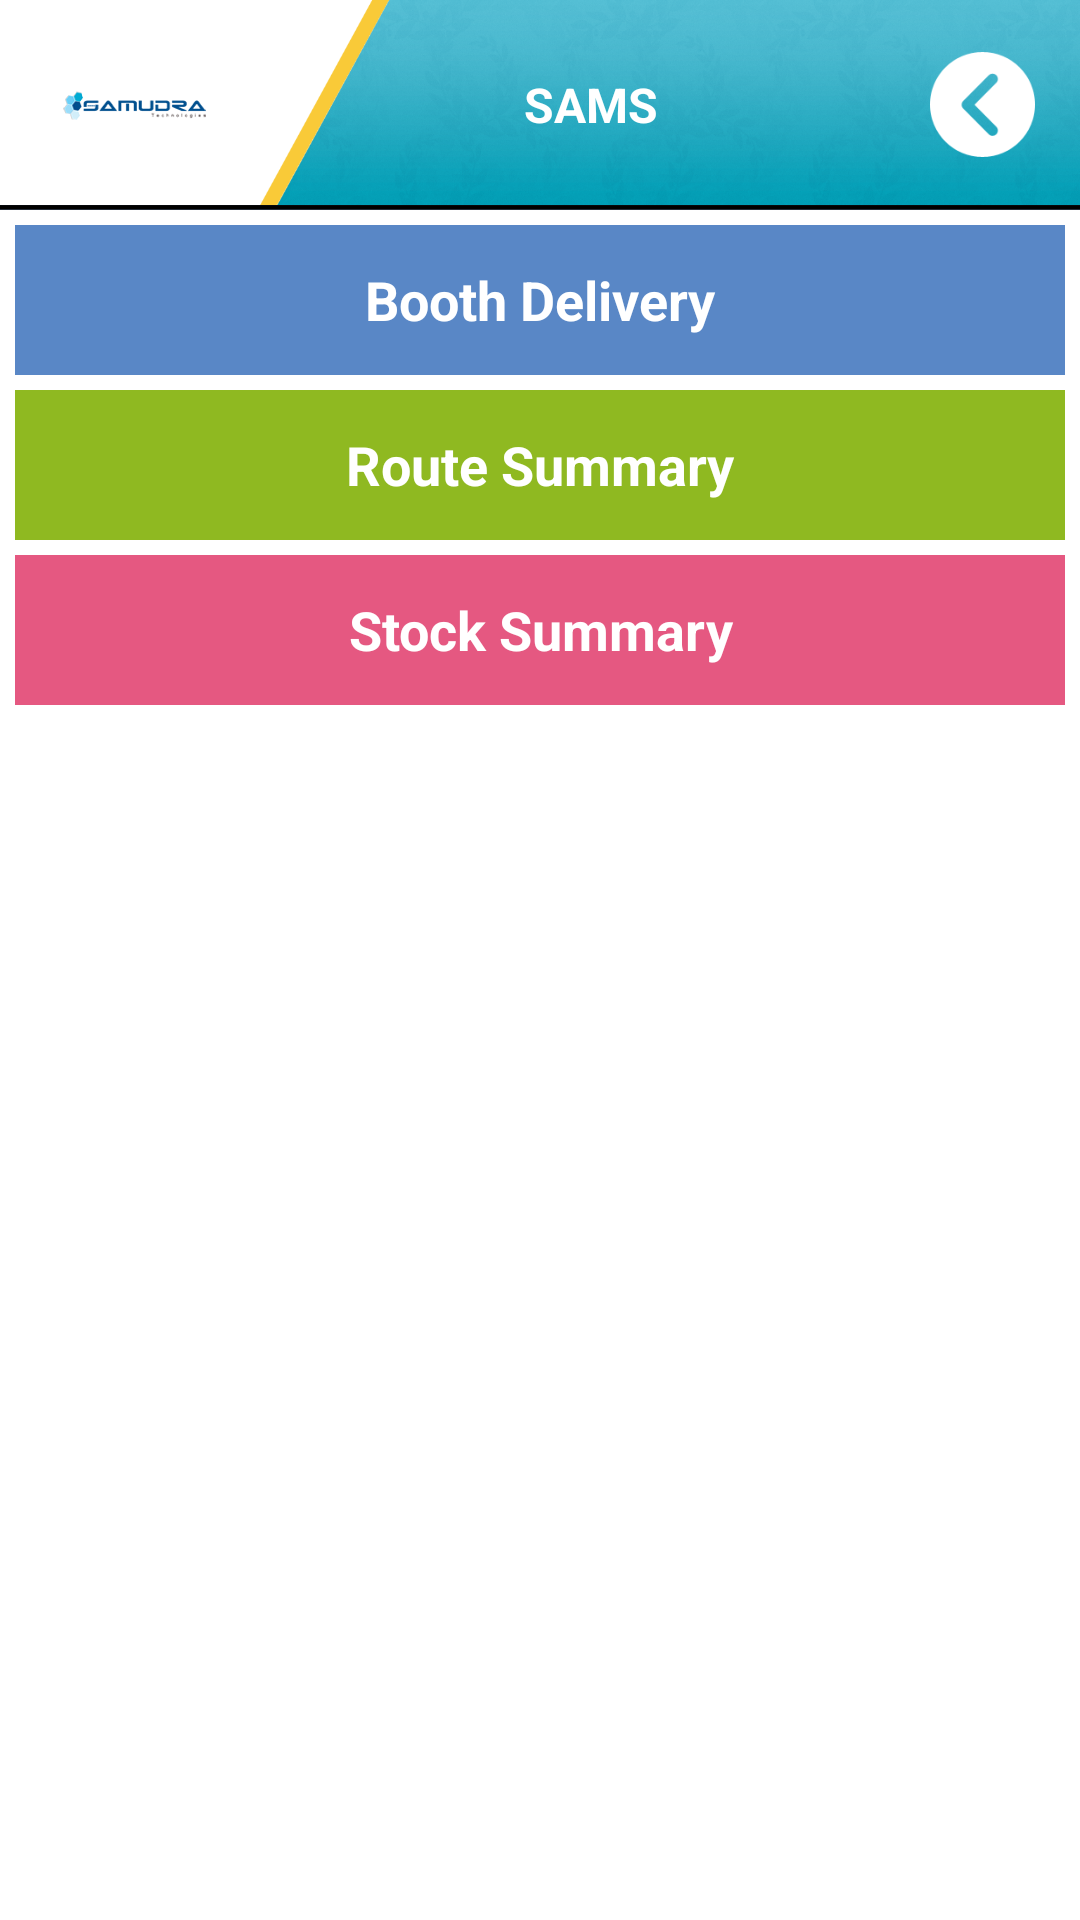

Screen size 1080 × 1920. Icon name, then its center in pixels as (x,y):
back: (982,104)
